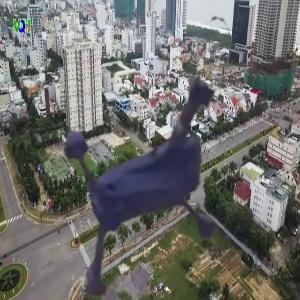drone: (18, 17, 284, 283)
